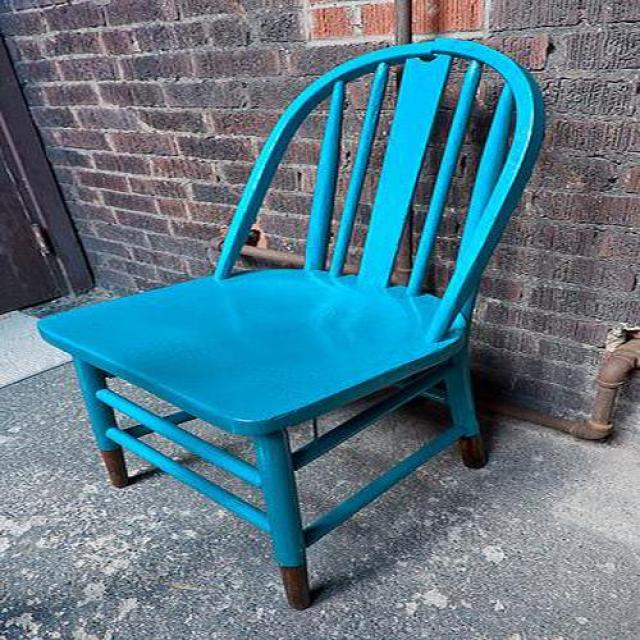chair: (36, 37, 548, 612)
